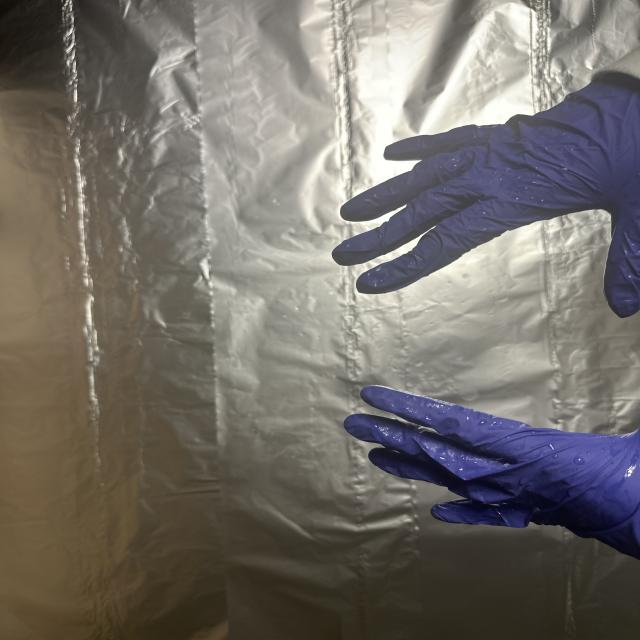gloves_contaminated: (332, 72, 640, 318), (344, 386, 640, 559)
